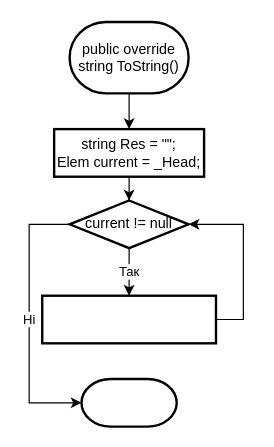
Image size: 274x447. Some labels were removed from this diagram. Each missing label, with the centre of its shape:
Res += current._inf + "\t"; current = current._R;: (x=128, y=319)
return Res;: (x=128, y=402)
